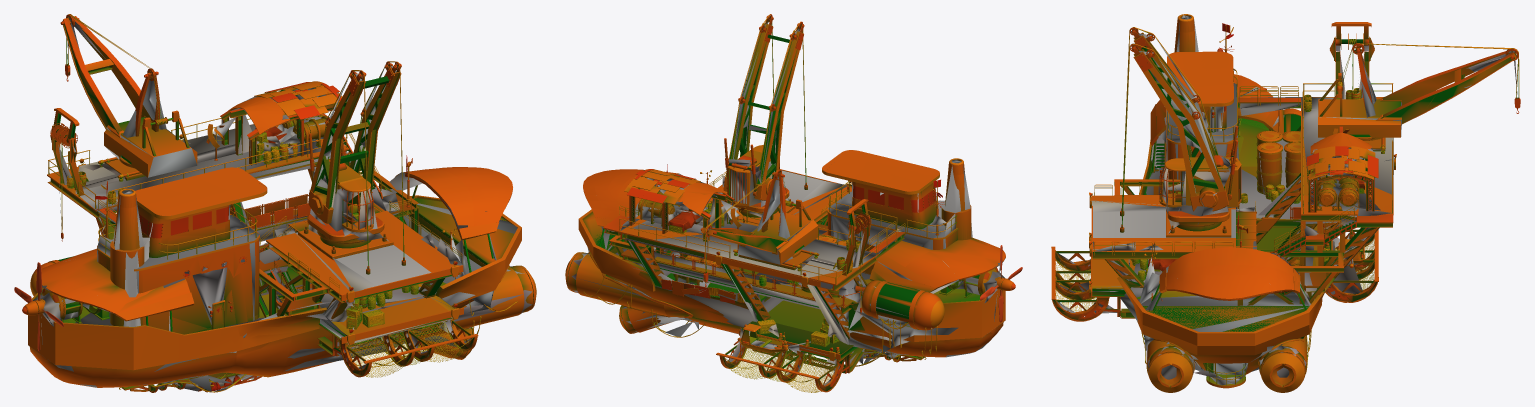
The model's file is KB3D_CSK_BldgMdRepairStation_A.glb.
3 views of the same model, side by side, from view 1: azimuth 30°, elevation 25°; view 2: azimuth 150°, elevation 25°; view 3: azimuth 270°, elevation 25° (orthographic). The views are drawn at different scales.
Visible parts, largest first — view 1: L0, L2, L1; view 2: L0, L2, L1; view 3: L0, L1, L2.
Boxes of the visible parts, left/top/right/bottom form: L0: left=14, top=14, right=536, bottom=392; L2: left=33, top=16, right=532, bottom=391; L1: left=16, top=15, right=534, bottom=392; L0: left=565, top=14, right=1022, bottom=392; L2: left=568, top=21, right=1004, bottom=385; L1: left=565, top=15, right=1021, bottom=391; L0: left=1051, top=14, right=1520, bottom=392; L1: left=1053, top=15, right=1519, bottom=387; L2: left=1057, top=15, right=1517, bottom=385.
Size of the model in its own units: 39.14 by 25.12 by 34.18.
